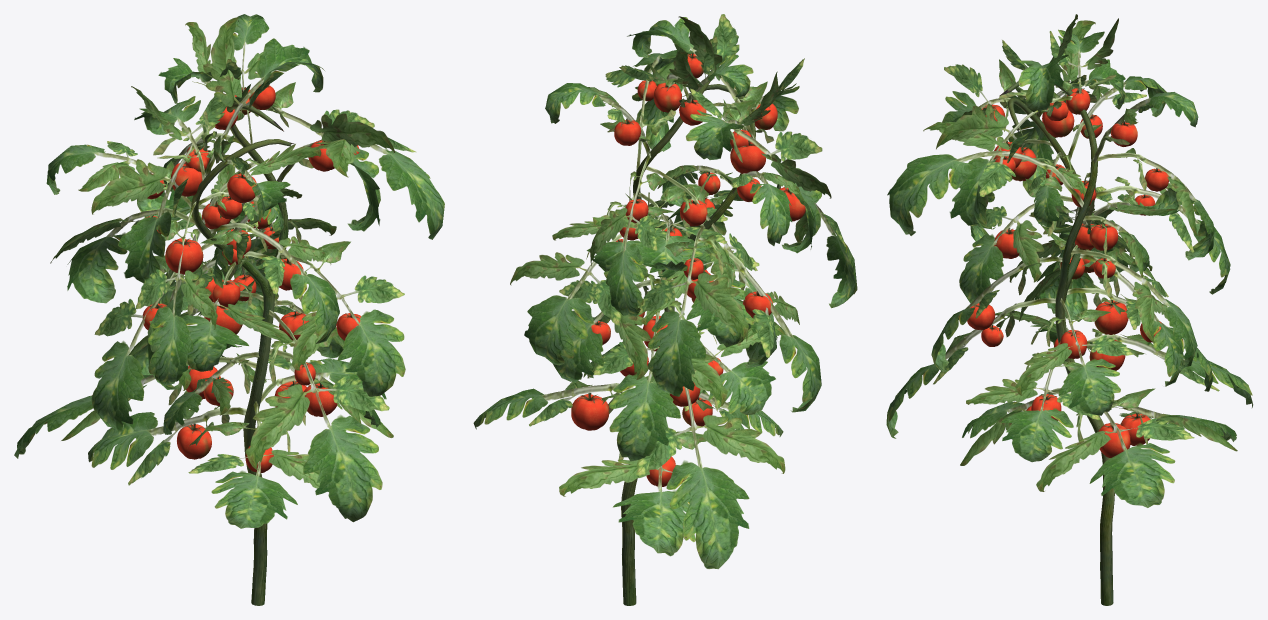
Rendered from tomato_plant_3.glb.
The picture shows the model from 3 angles, left to right: view 1: azimuth 30°, elevation 25°; view 2: azimuth 150°, elevation 25°; view 3: azimuth 270°, elevation 25°; orthographic projection. The views are drawn at different scales.
Visible parts, largest first — view 1: Tomato_07; view 2: Tomato_07; view 3: Tomato_07.
Part boxes in pixels (x1=…): Tomato_07: x1=14, y1=14, x2=444, y2=605; Tomato_07: x1=473, y1=14, x2=857, y2=605; Tomato_07: x1=886, y1=14, x2=1253, y2=605.
Bounding box in the file's own units: 0.0175 × 0.031 × 0.0181.
4 materials, 4 textured.
